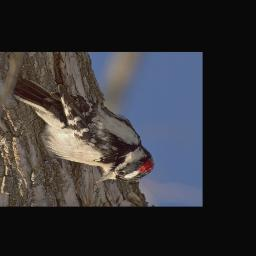Woodpecker: (13, 76, 155, 184)
